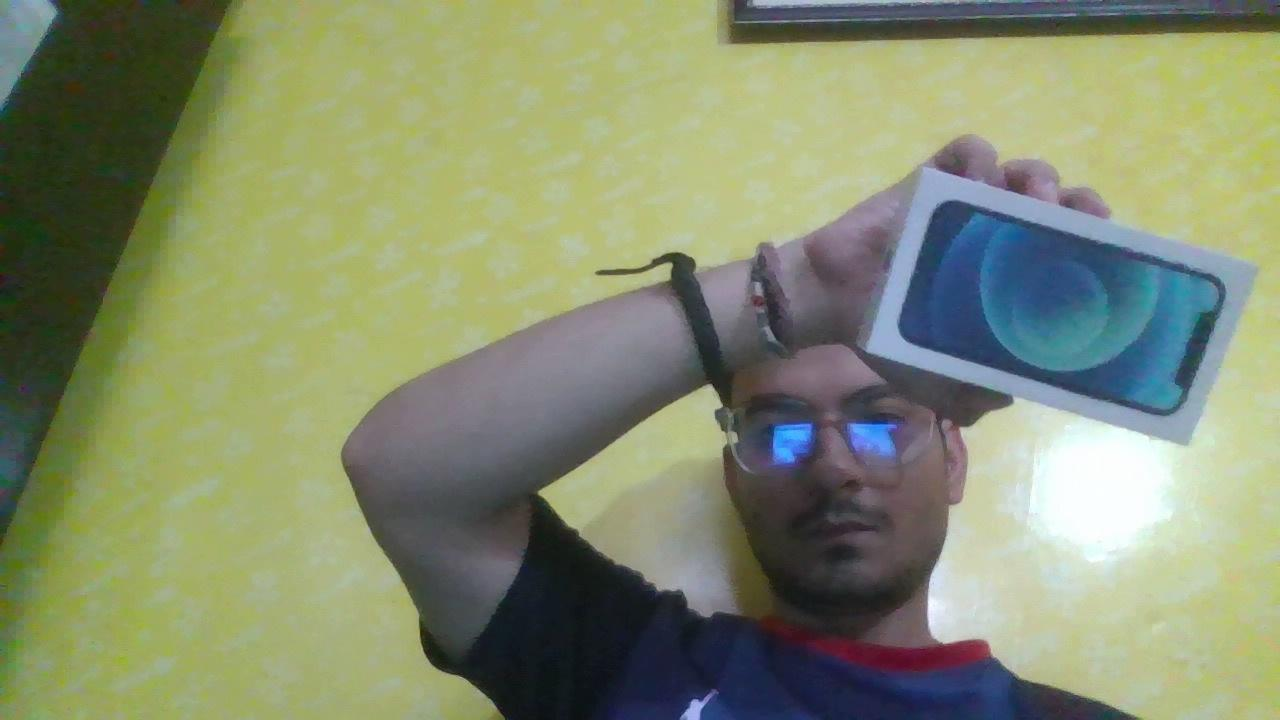Phone: (863, 163, 1247, 444)
